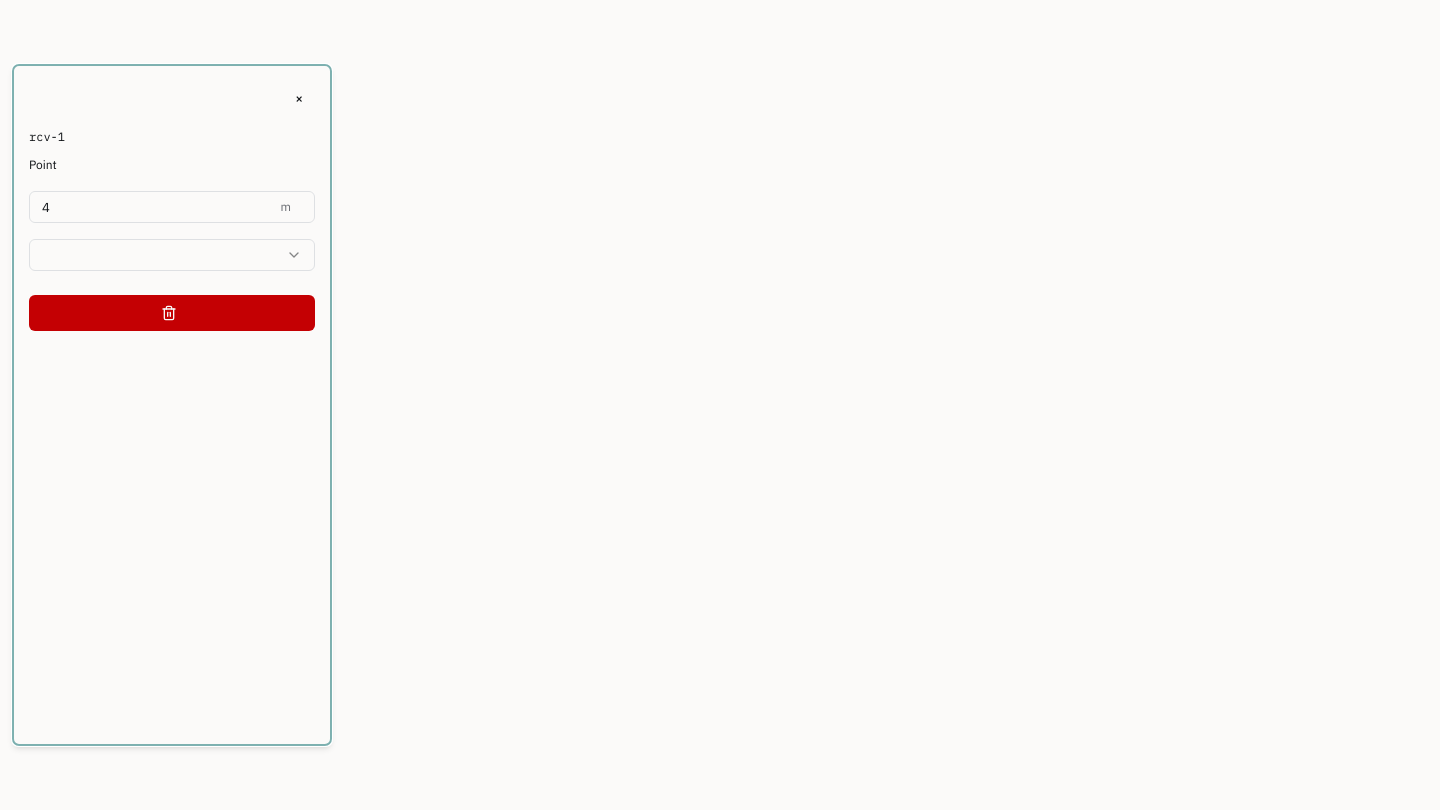
FeatureEditor receiver area category › offers the four categories ThresholdsForCategory knows, by their German names
Click the dropdown.
click(294, 255)  # box [29,239,315,271]
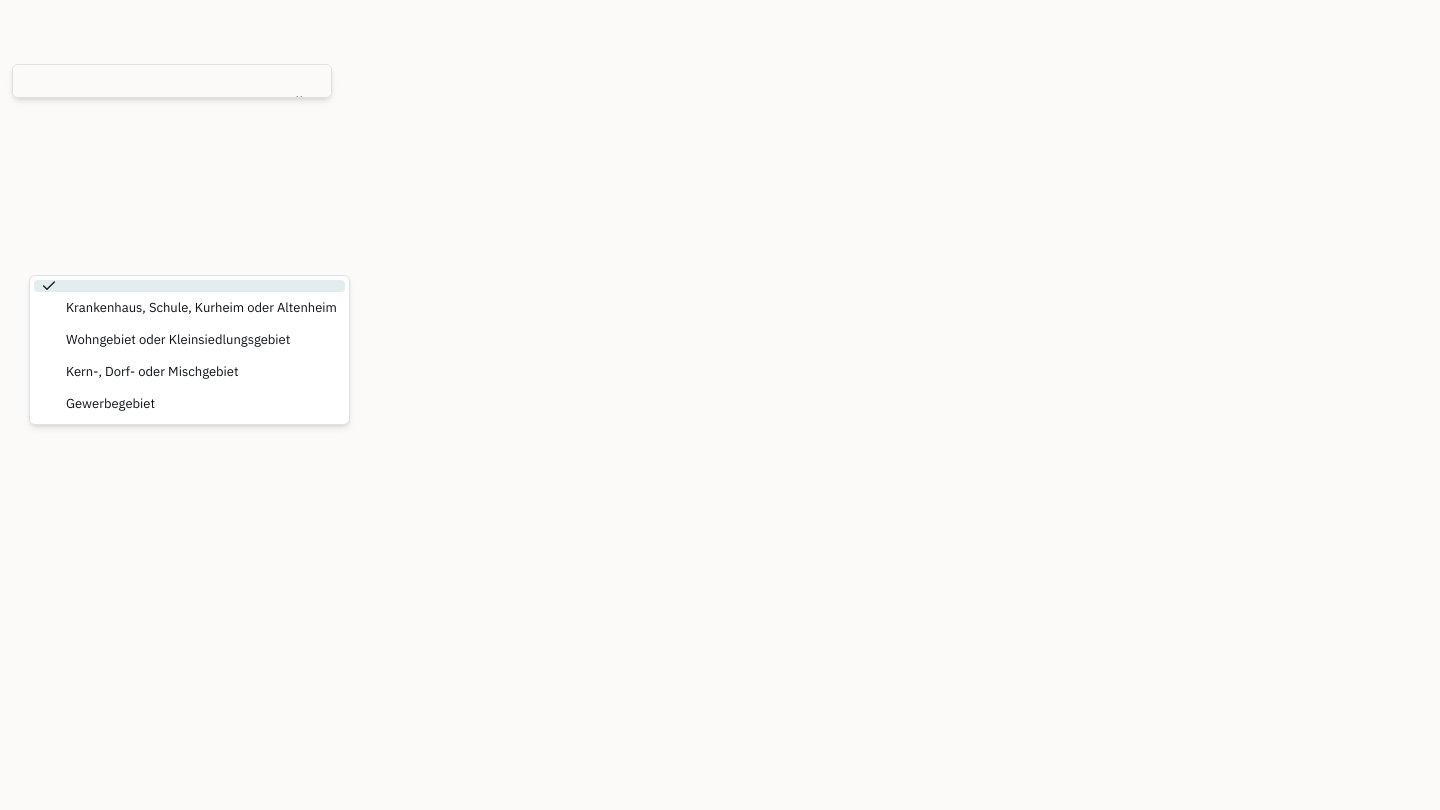
Now the option "Krankenhaus, Schule, Kurheim oder Altenheim" is shown, box [66,299,337,316]
Now the option "Wohngebiet oder Kleinsiedlungsgebiet" is shown, box [66,331,290,348]
Now the option "Kern-, Dorf- oder Mischgebiet" is shown, box [66,363,239,380]
